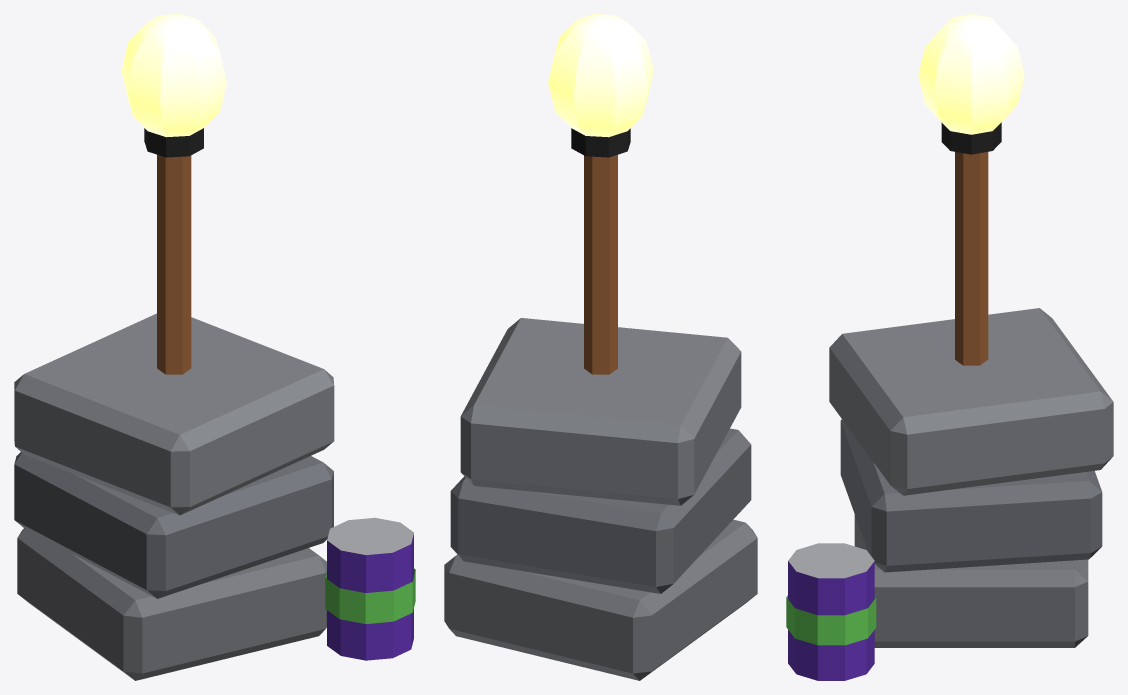
File: edge_corner.glb
3 views of the same model, side by side, from view 1: azimuth 30°, elevation 25°; view 2: azimuth 150°, elevation 25°; view 3: azimuth 270°, elevation 25° (orthographic). The views are drawn at different scales.
Parts seen in each view (by area): view 1: body, fx_glow_bulb; view 2: body, fx_glow_bulb; view 3: body, fx_glow_bulb.
Boxes of the visible parts, bbox=[...] form: body: bbox=[14, 128, 415, 680]; fx_glow_bulb: bbox=[121, 14, 226, 137]; body: bbox=[444, 128, 757, 680]; fx_glow_bulb: bbox=[548, 14, 653, 137]; body: bbox=[786, 122, 1113, 680]; fx_glow_bulb: bbox=[918, 14, 1024, 134].
Size of the model in its own units: 0.9744 by 1.94 by 0.981.
